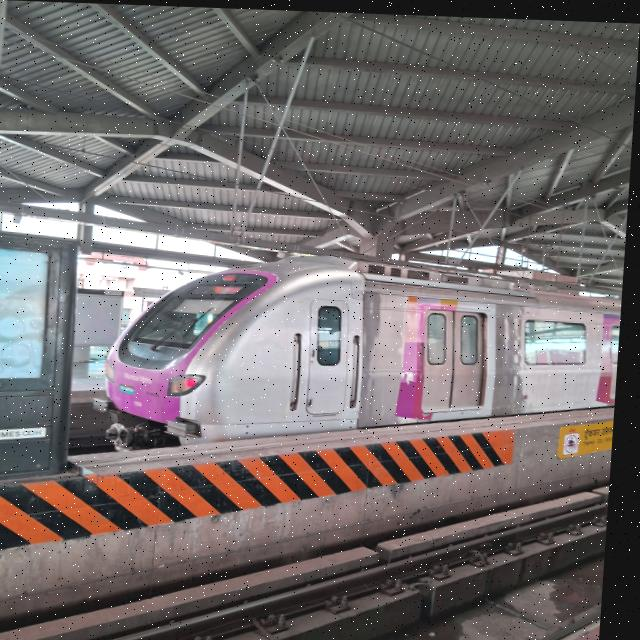train: (107, 218, 629, 493)
